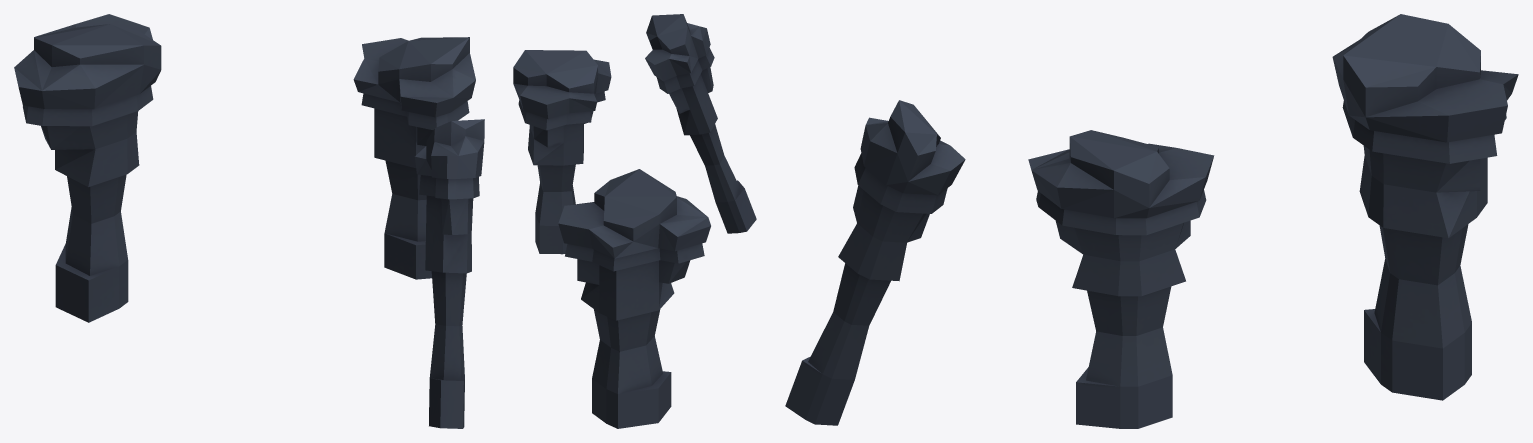
Rendered from Stone_02.FBX.
The picture shows the model from 3 angles, left to right: view 1: azimuth 30°, elevation 25°; view 2: azimuth 150°, elevation 25°; view 3: azimuth 270°, elevation 25°; orthographic projection. The views are drawn at different scales.
Visible parts, largest first — view 1: Stone_02; view 2: Stone_02; view 3: Stone_02.
Boxes of the visible parts, x1=… form: Stone_02: x1=14, y1=14, x2=484, y2=428; Stone_02: x1=513, y1=14, x2=756, y2=428; Stone_02: x1=785, y1=14, x2=1518, y2=428.
Bounding box in the file's own units: 31.82 × 26.68 × 48.42.
